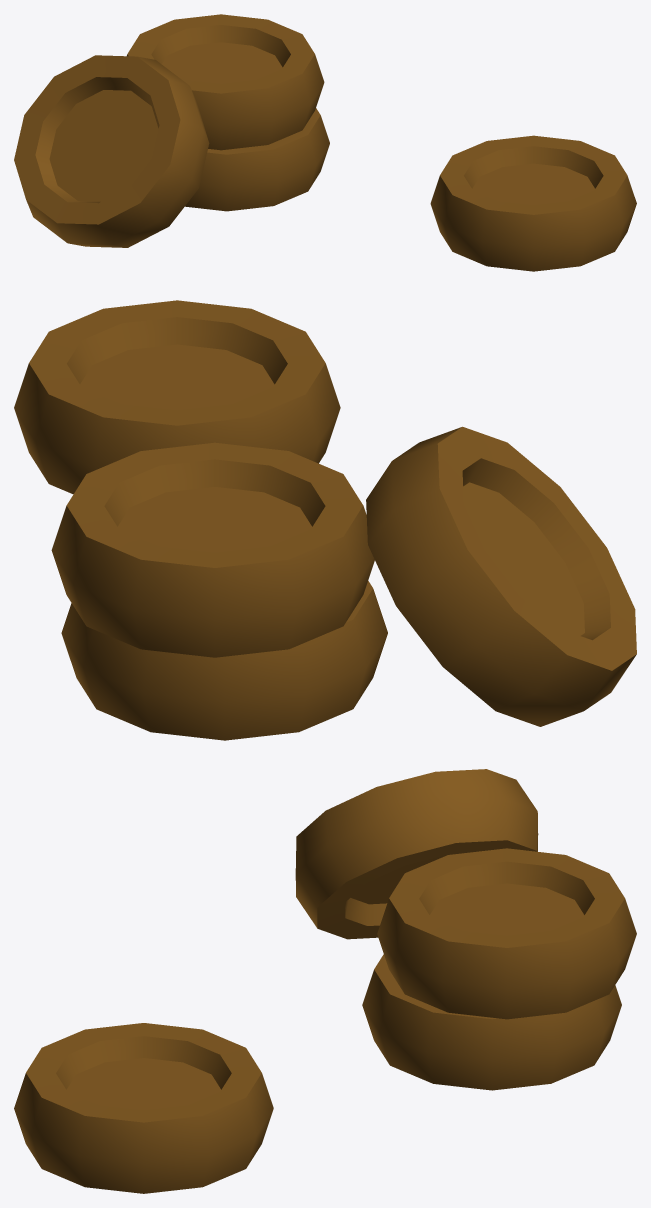
Rendered from coinsSmall.obj.
The picture shows the model from 3 angles, top to bottom: view 1: azimuth 30°, elevation 25°; view 2: azimuth 150°, elevation 25°; view 3: azimuth 270°, elevation 25°; orthographic projection. The views are drawn at different scales.
Visible parts, largest first — view 1: coinsSmall_Cylinder.054; view 2: coinsSmall_Cylinder.054; view 3: coinsSmall_Cylinder.054.
Boxes of the visible parts, box(x1,y1,x2,y2) form: coinsSmall_Cylinder.054: box(14, 14, 636, 271); coinsSmall_Cylinder.054: box(14, 300, 636, 740); coinsSmall_Cylinder.054: box(14, 769, 636, 1193).
Size of the model in its own units: 0.8875 by 0.288 by 0.7918.
